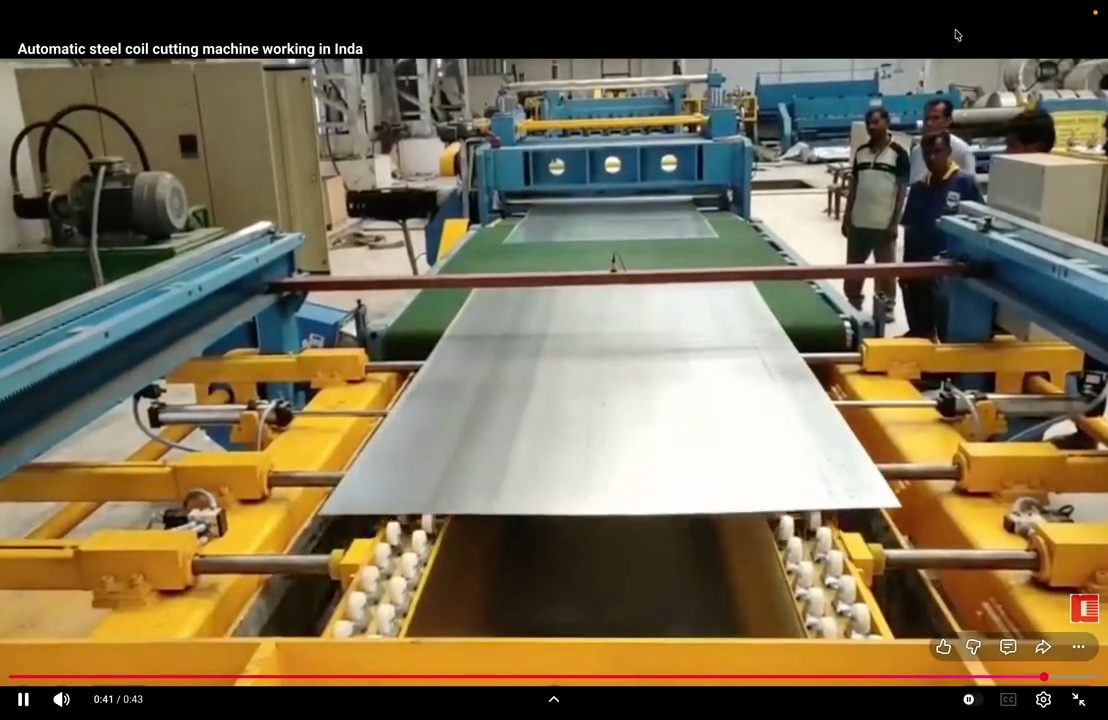steel plate: (322, 283, 897, 515), (505, 201, 717, 243)
